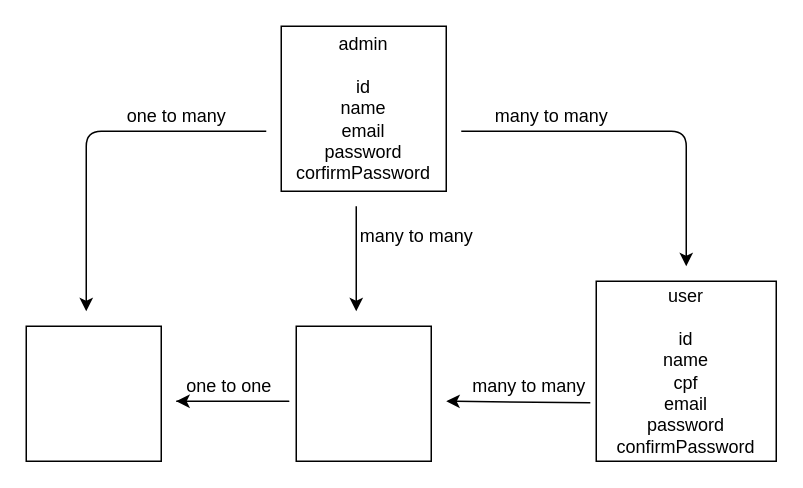
This 803x488 diagram has some shape labels left out. The centre of each missing label's shape, as x and y in pixels:
movies id title description image: the point at 93,393
netflix id title description image: the point at 363,393
